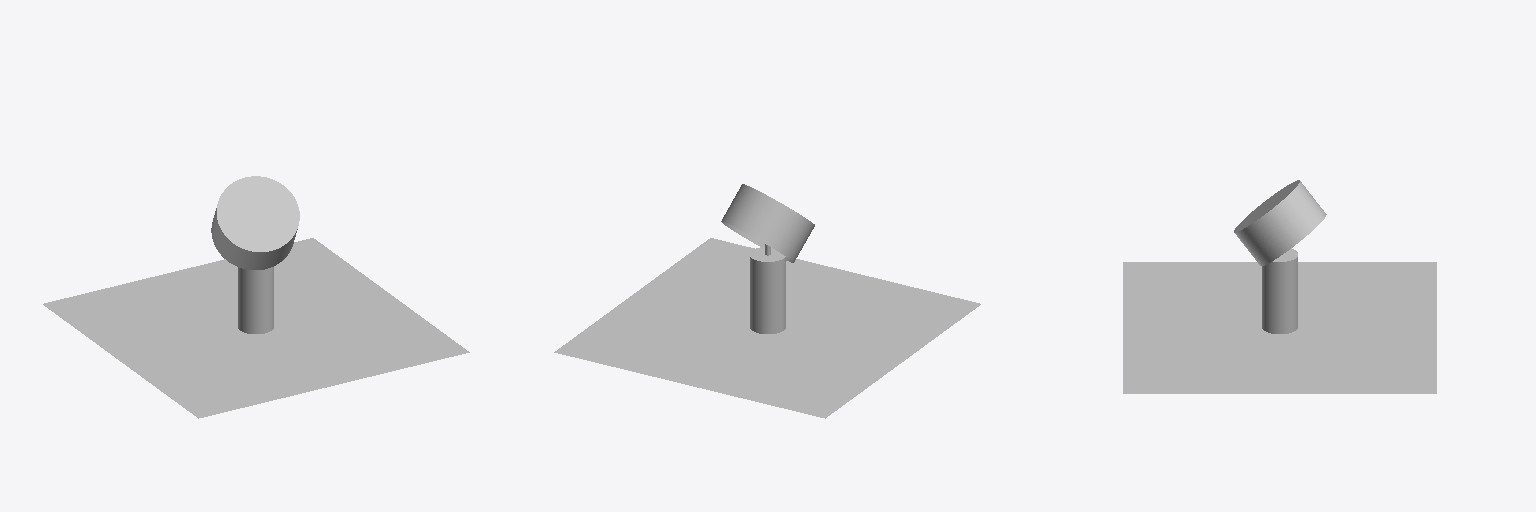
Rendered from lamp23.obj.
The picture shows the model from 3 angles: view 1: azimuth 30°, elevation 25°; view 2: azimuth 150°, elevation 25°; view 3: azimuth 270°, elevation 25°; orthographic projection.
Visible parts, largest first — view 1: Plane, Cylinder.002, Cylinder; view 2: Plane, Cylinder.002, Cylinder, Cylinder.001; view 3: Plane, Cylinder.002, Cylinder.
Part boxes in pixels (x1,y1,x2,y2): Plane: (43,238,469,418); Cylinder.002: (211,176,299,269); Cylinder: (238,267,273,333); Plane: (554,238,980,418); Cylinder.002: (721,184,814,262); Cylinder: (750,264,785,333); Cylinder.001: (750,244,785,268); Plane: (1123,262,1436,393); Cylinder.002: (1234,180,1326,265); Cylinder: (1262,264,1297,333).
Bounding box in the file's own units: 17.18 × 8.74 × 17.18.